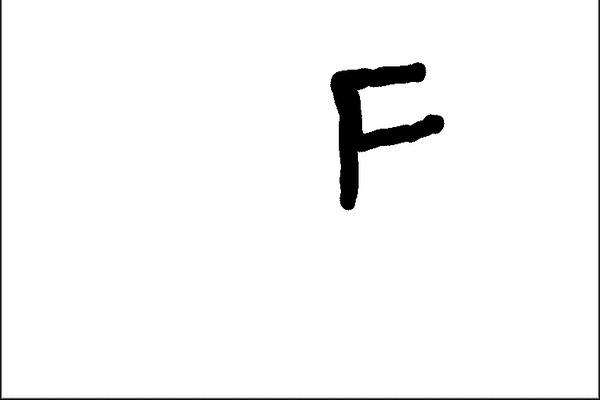F: (324, 58, 447, 213)
